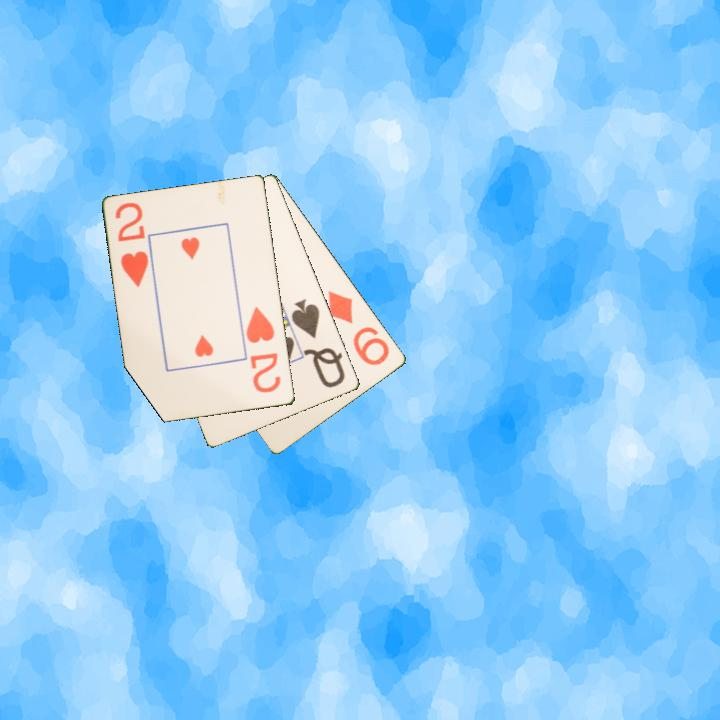2h: (243, 303, 284, 396), (112, 199, 152, 290)
9d: (325, 287, 393, 369)
Qs: (288, 295, 348, 391)
